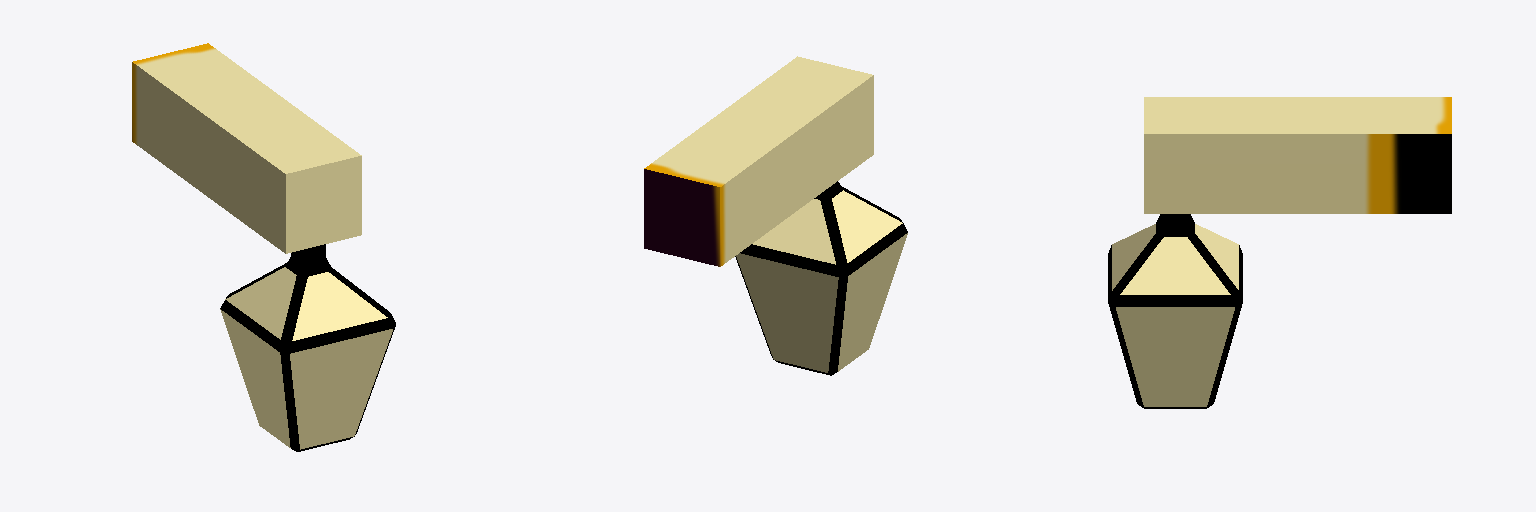
3 views of the same model, side by side, from view 1: azimuth 30°, elevation 25°; view 2: azimuth 150°, elevation 25°; view 3: azimuth 270°, elevation 25° (orthographic).
Parts seen in each view (by area): view 1: 立方体.016; view 2: 立方体.016; view 3: 立方体.016.
Boxes of the visible parts, box(x1,y1,x2,y2) form: 立方体.016: box(132, 43, 395, 451); 立方体.016: box(644, 56, 907, 375); 立方体.016: box(1108, 97, 1451, 408).
Size of the model in its own units: 0.721 by 1.67 by 1.84.
1 materials, 1 textured.